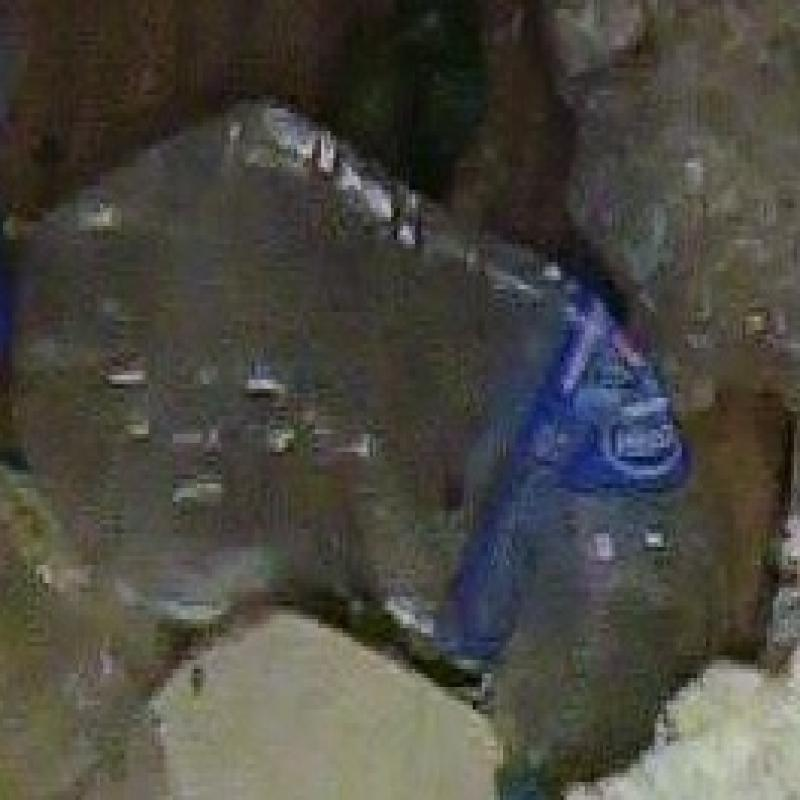botella: (31, 96, 735, 757)
